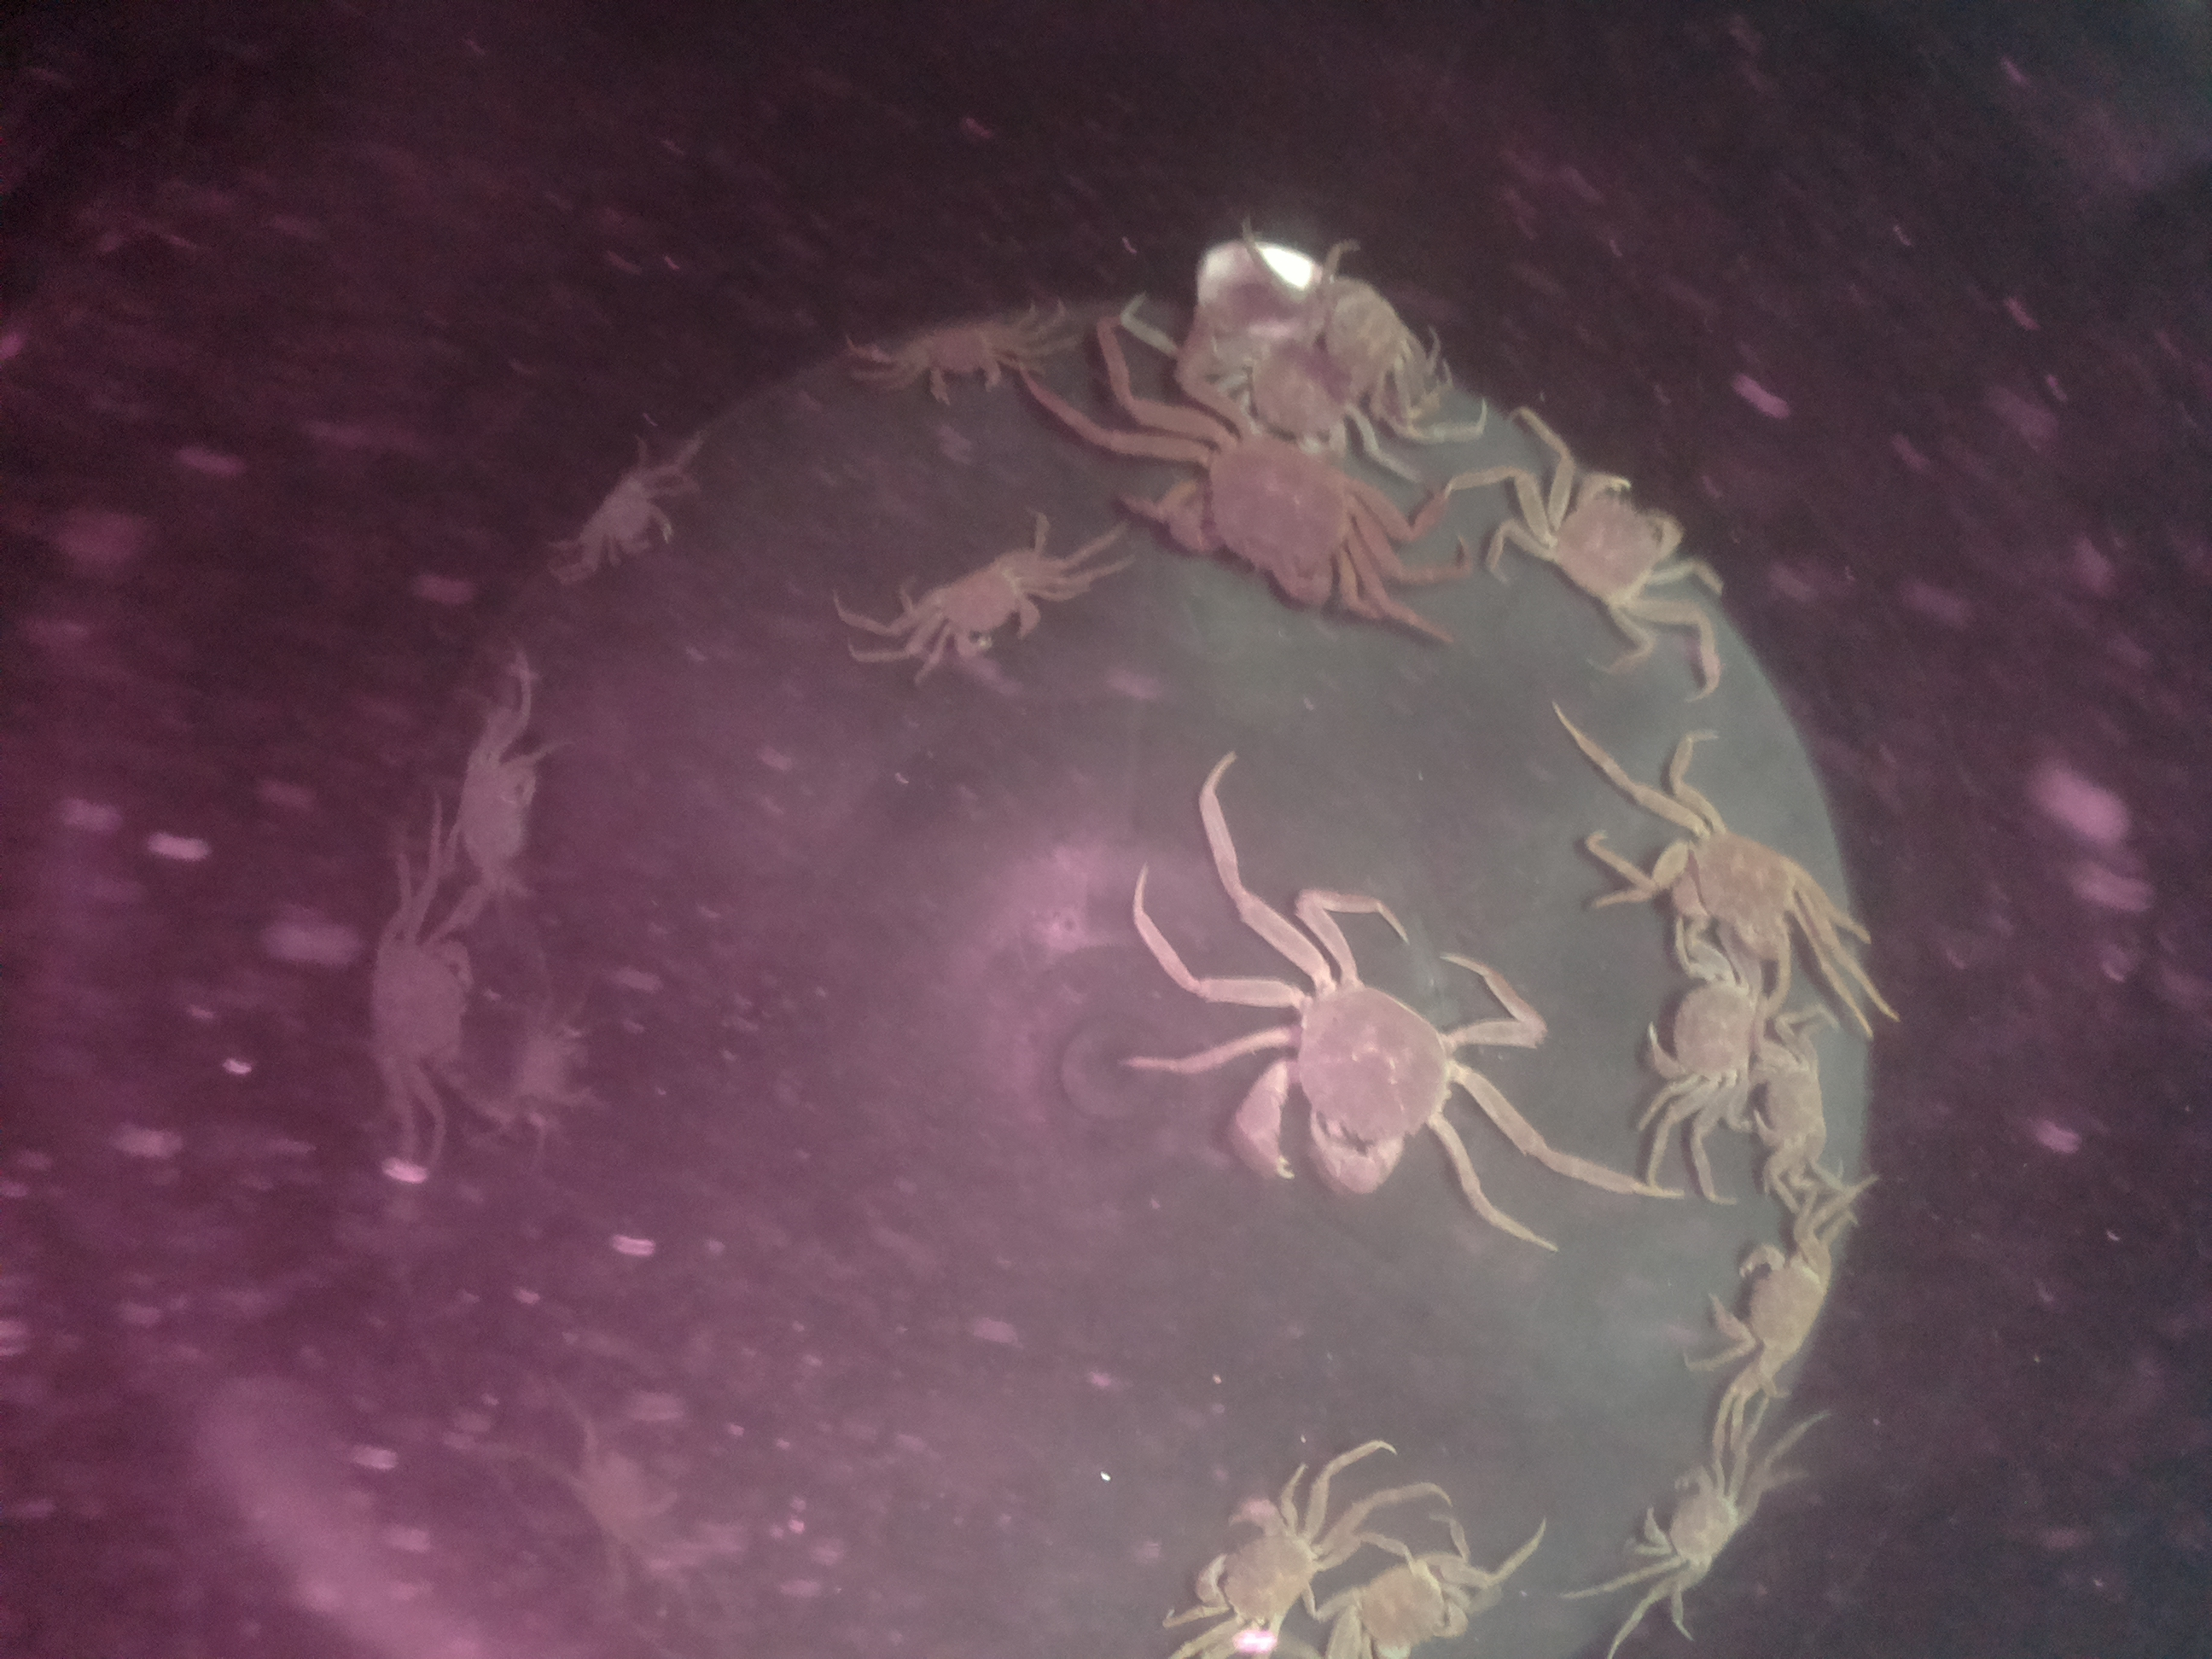Crab: (1193, 953, 1479, 1208), (1507, 460, 1700, 624), (1629, 932, 1775, 1131), (1683, 1227, 1858, 1385), (1176, 1480, 1338, 1650), (1608, 1441, 1756, 1608), (899, 540, 1057, 671)
